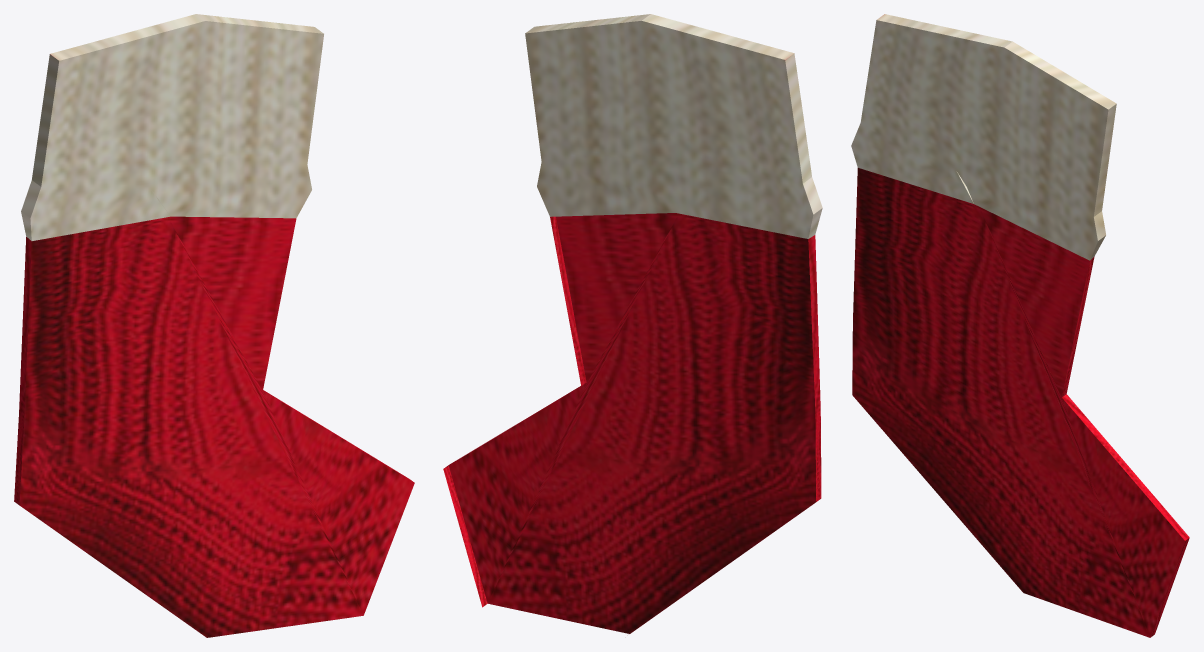
The model's file is Socke.dae.
3 views of the same model, side by side, from view 1: azimuth 30°, elevation 25°; view 2: azimuth 150°, elevation 25°; view 3: azimuth 330°, elevation 25° (orthographic). The views are drawn at different scales.
Visible parts, largest first — view 1: Sock; view 2: Sock; view 3: Sock.
Part boxes in pixels (x1,y1,x2,y2): Sock: (14,14,414,637); Sock: (443,14,822,633); Sock: (851,14,1189,637).
Bounding box in the file's own units: 3.65 × 0.2786 × 5.74.
